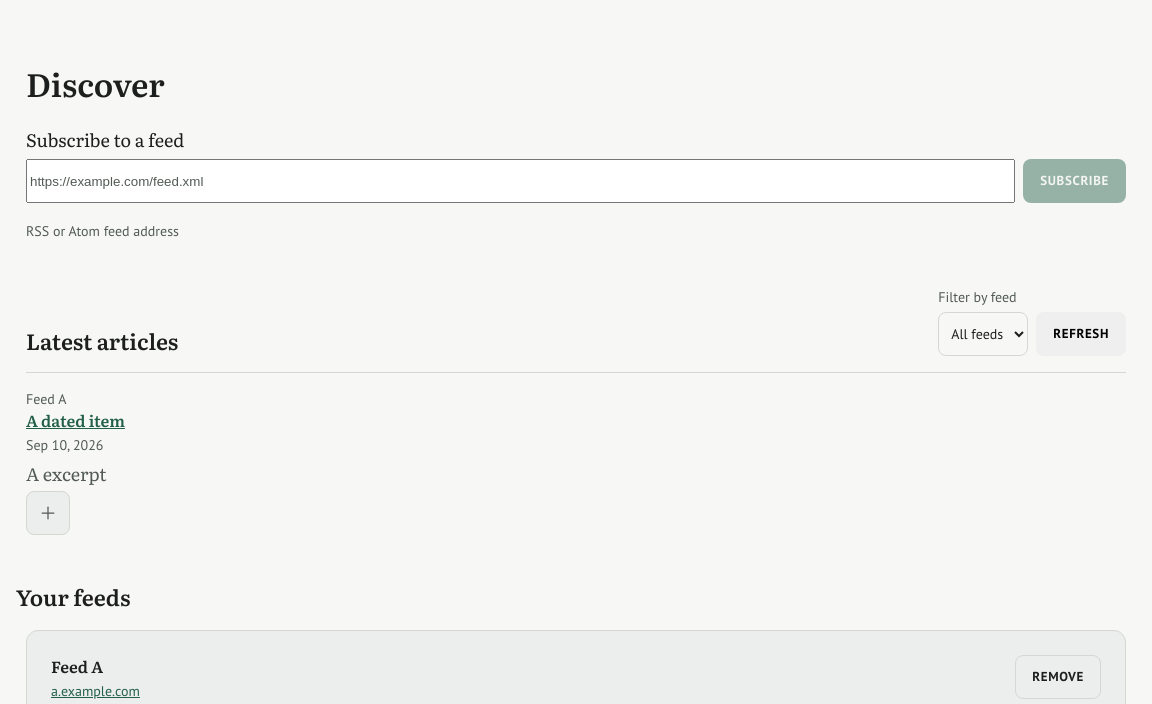
Test case: DiscoverView — refresh moments (issue #123) › manual Refresh fetches new items, merges them into the timeline, and announces
The image size is (1152, 704).
Check: the heading "Latest articles" is shown, box top-left (26, 327), bottom-right (178, 356)
Check: the text "A brand new item" is not shown
Click the button "Refresh" at x=1081, y=334, box top-left (1036, 312), bottom-right (1126, 356)
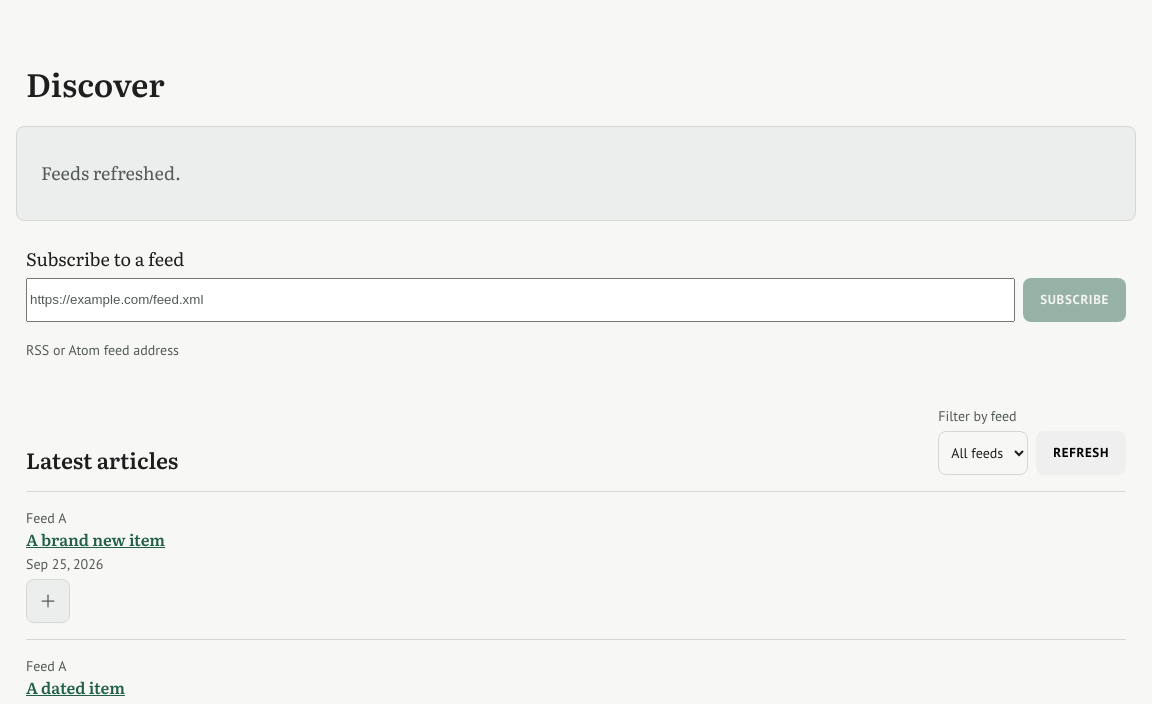
Check: the link "A brand new item" is shown, box top-left (26, 527), bottom-right (165, 551)
Check: the text "Feeds refreshed." is shown, box top-left (41, 159), bottom-right (181, 186)
